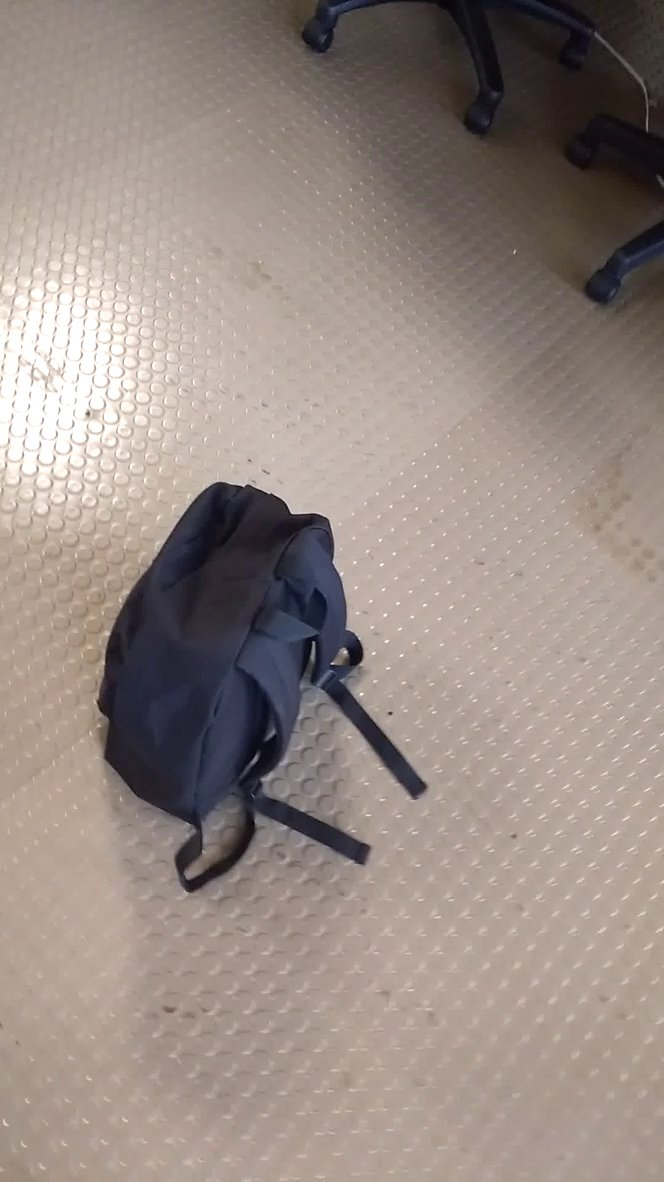bag: (80, 475, 441, 902)
